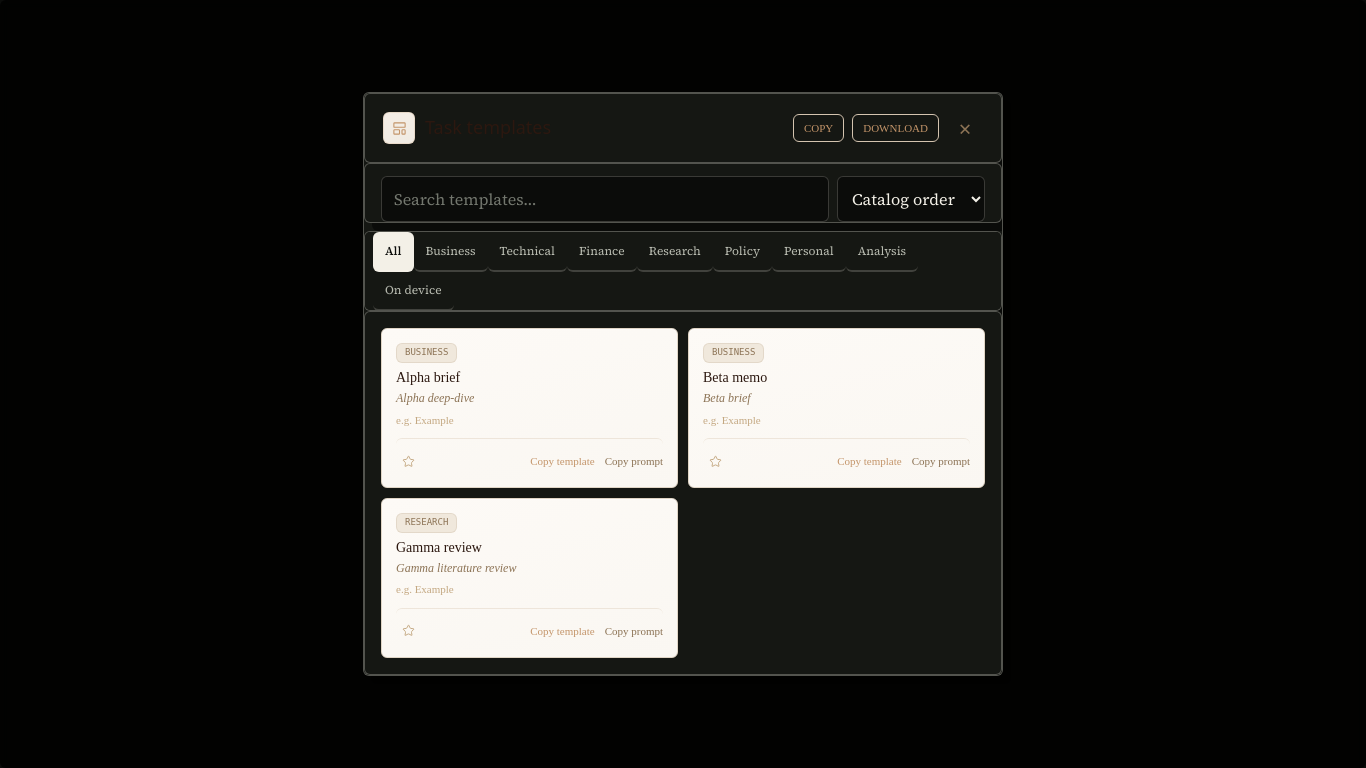
TemplatesModal favorites › unstars from the Favorites tab and clears all
The width and height of the screenshot is (1366, 768).
Click the button named "Favorite template Alpha brief": (408, 461) left=396, top=449, right=420, bottom=473
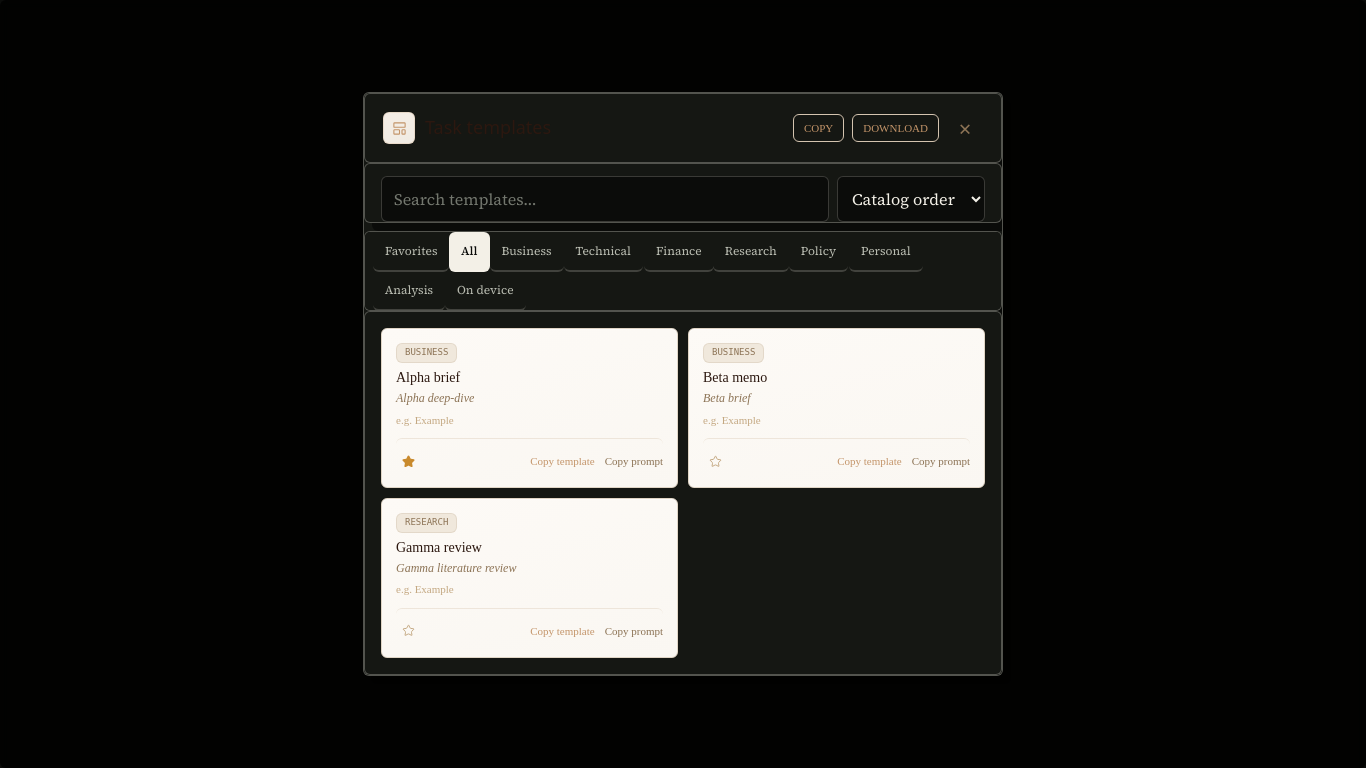
Click the tab "Favorites": (411, 252) left=373, top=232, right=450, bottom=272
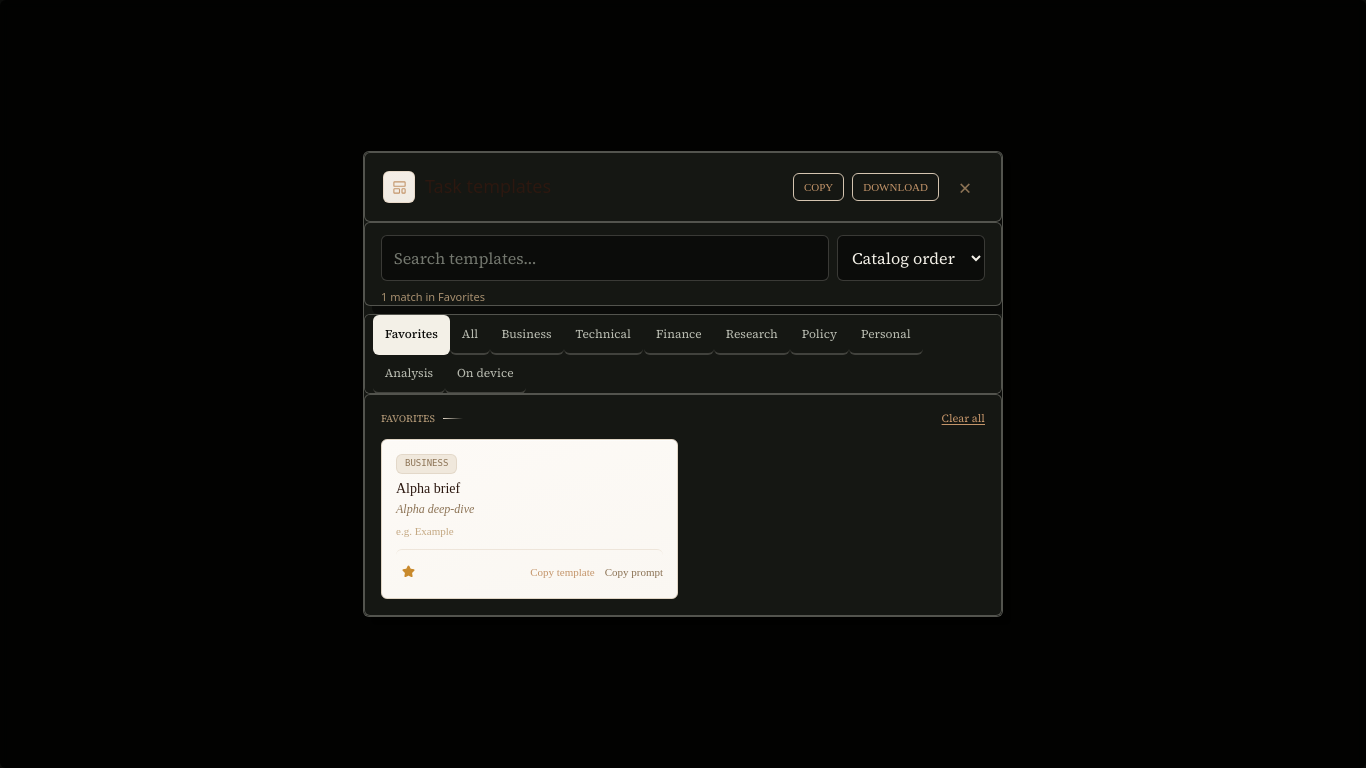
Click the button named "Remove template Alpha brief": (408, 572) left=396, top=560, right=420, bottom=584
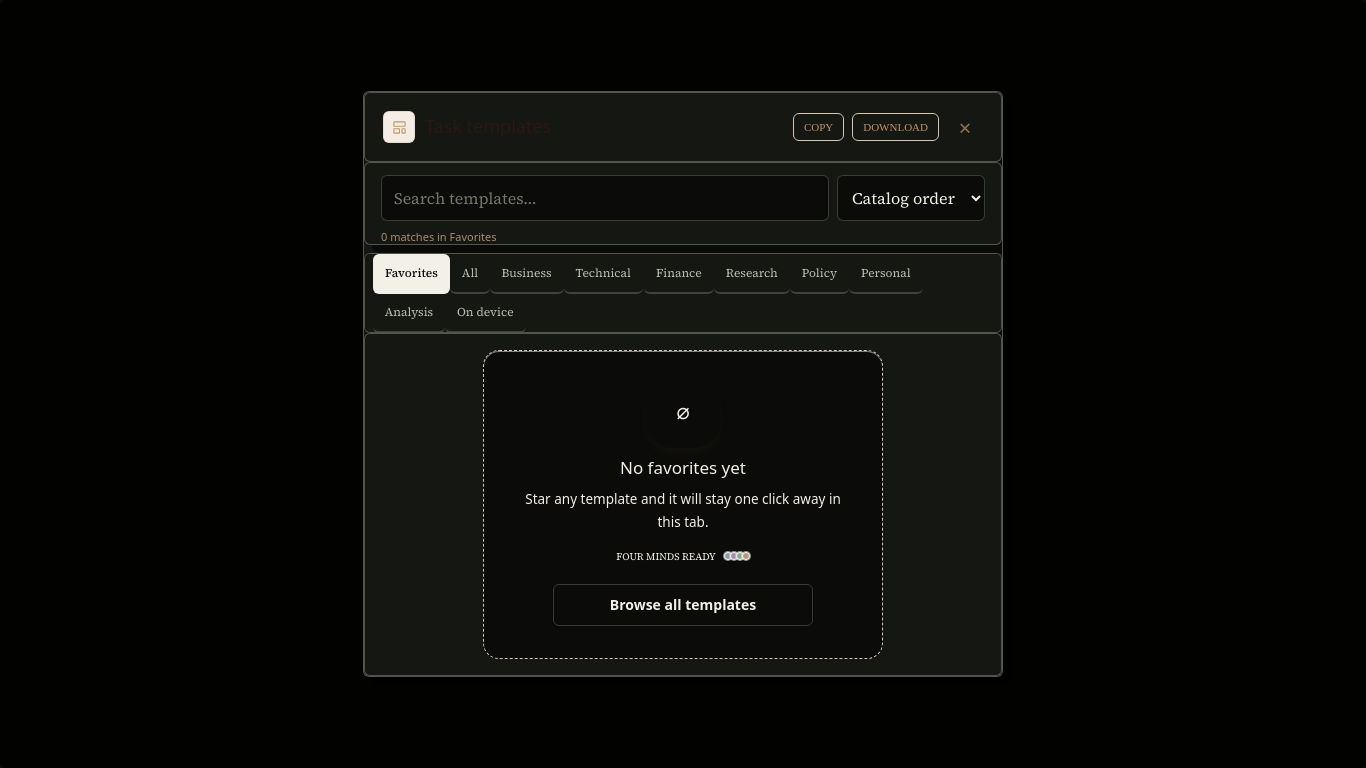
Result: the heading "No favorites yet" is shown at left=620, top=458, right=746, bottom=480
Click the button "Browse all templates": (683, 605) left=553, top=584, right=813, bottom=626
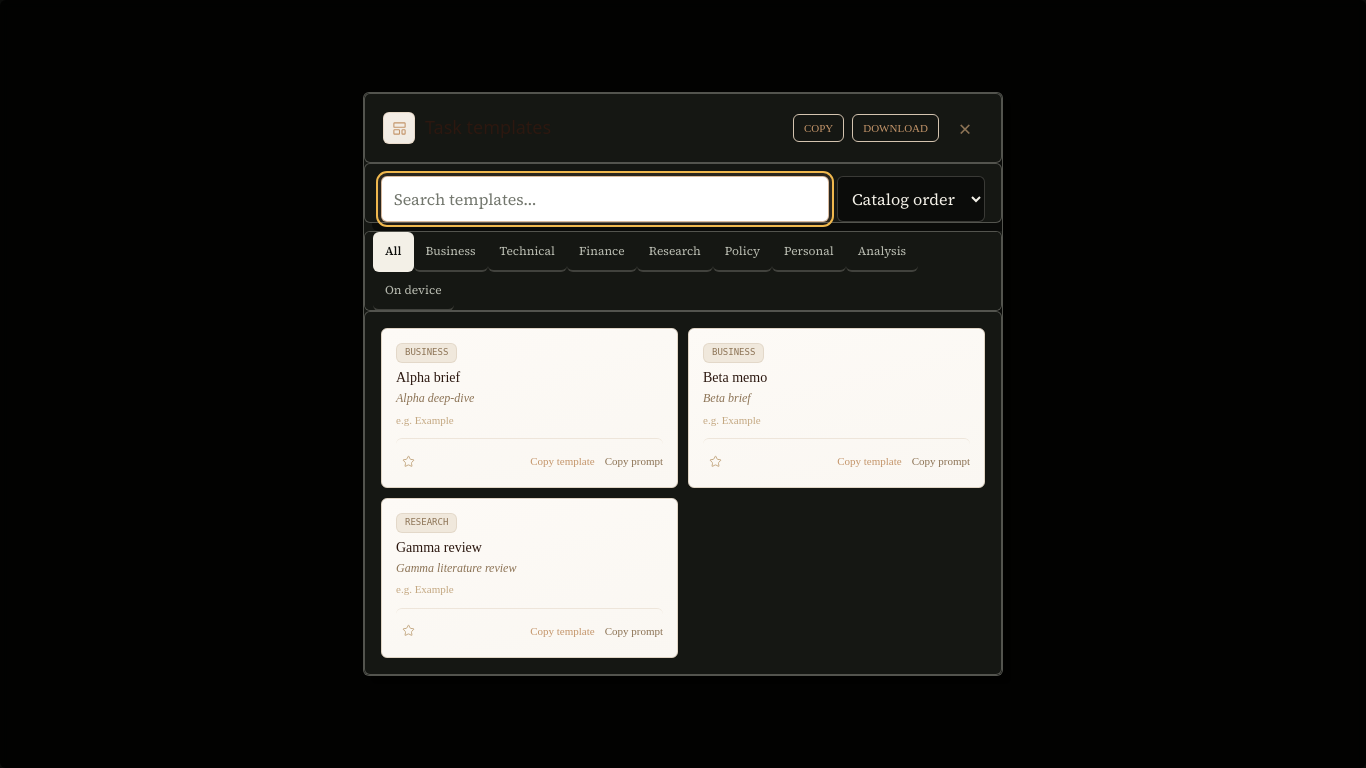
Result: the text "Beta memo" is shown at left=703, top=370, right=767, bottom=385
Result: the text "Favorites" is gone
